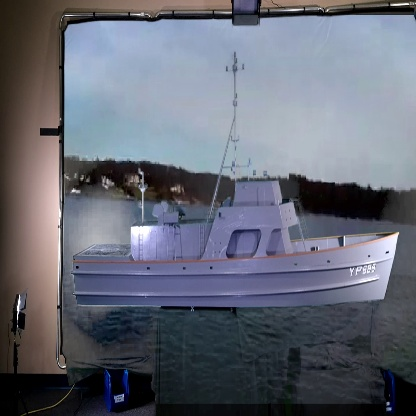YP689: (72, 46, 400, 312)
